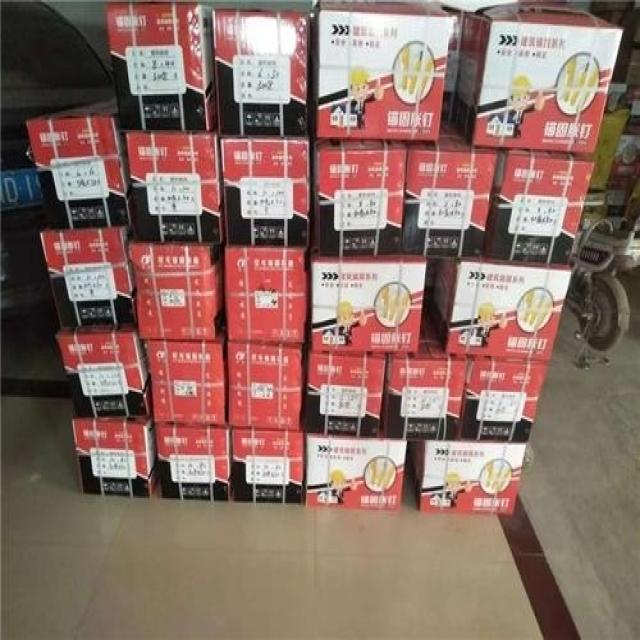box: (451, 1, 624, 152), (311, 1, 451, 145), (430, 251, 573, 361), (103, 1, 214, 134), (27, 95, 130, 230), (402, 116, 498, 254), (482, 148, 594, 265), (214, 8, 309, 138), (309, 132, 409, 254), (311, 250, 430, 349), (126, 128, 226, 244), (386, 306, 469, 439), (218, 136, 312, 247), (41, 224, 139, 330), (130, 242, 225, 339), (222, 245, 311, 348), (408, 438, 529, 513), (306, 428, 409, 511), (56, 332, 152, 419), (301, 348, 390, 441), (461, 353, 551, 443), (225, 337, 305, 431), (142, 337, 226, 423), (73, 417, 158, 495), (154, 418, 232, 500), (231, 426, 306, 503), (442, 1, 466, 127), (607, 125, 639, 182), (610, 40, 639, 87), (605, 178, 639, 217), (595, 11, 633, 35), (620, 79, 639, 127), (604, 82, 627, 113), (582, 190, 609, 213), (622, 8, 639, 43), (591, 1, 634, 13)
